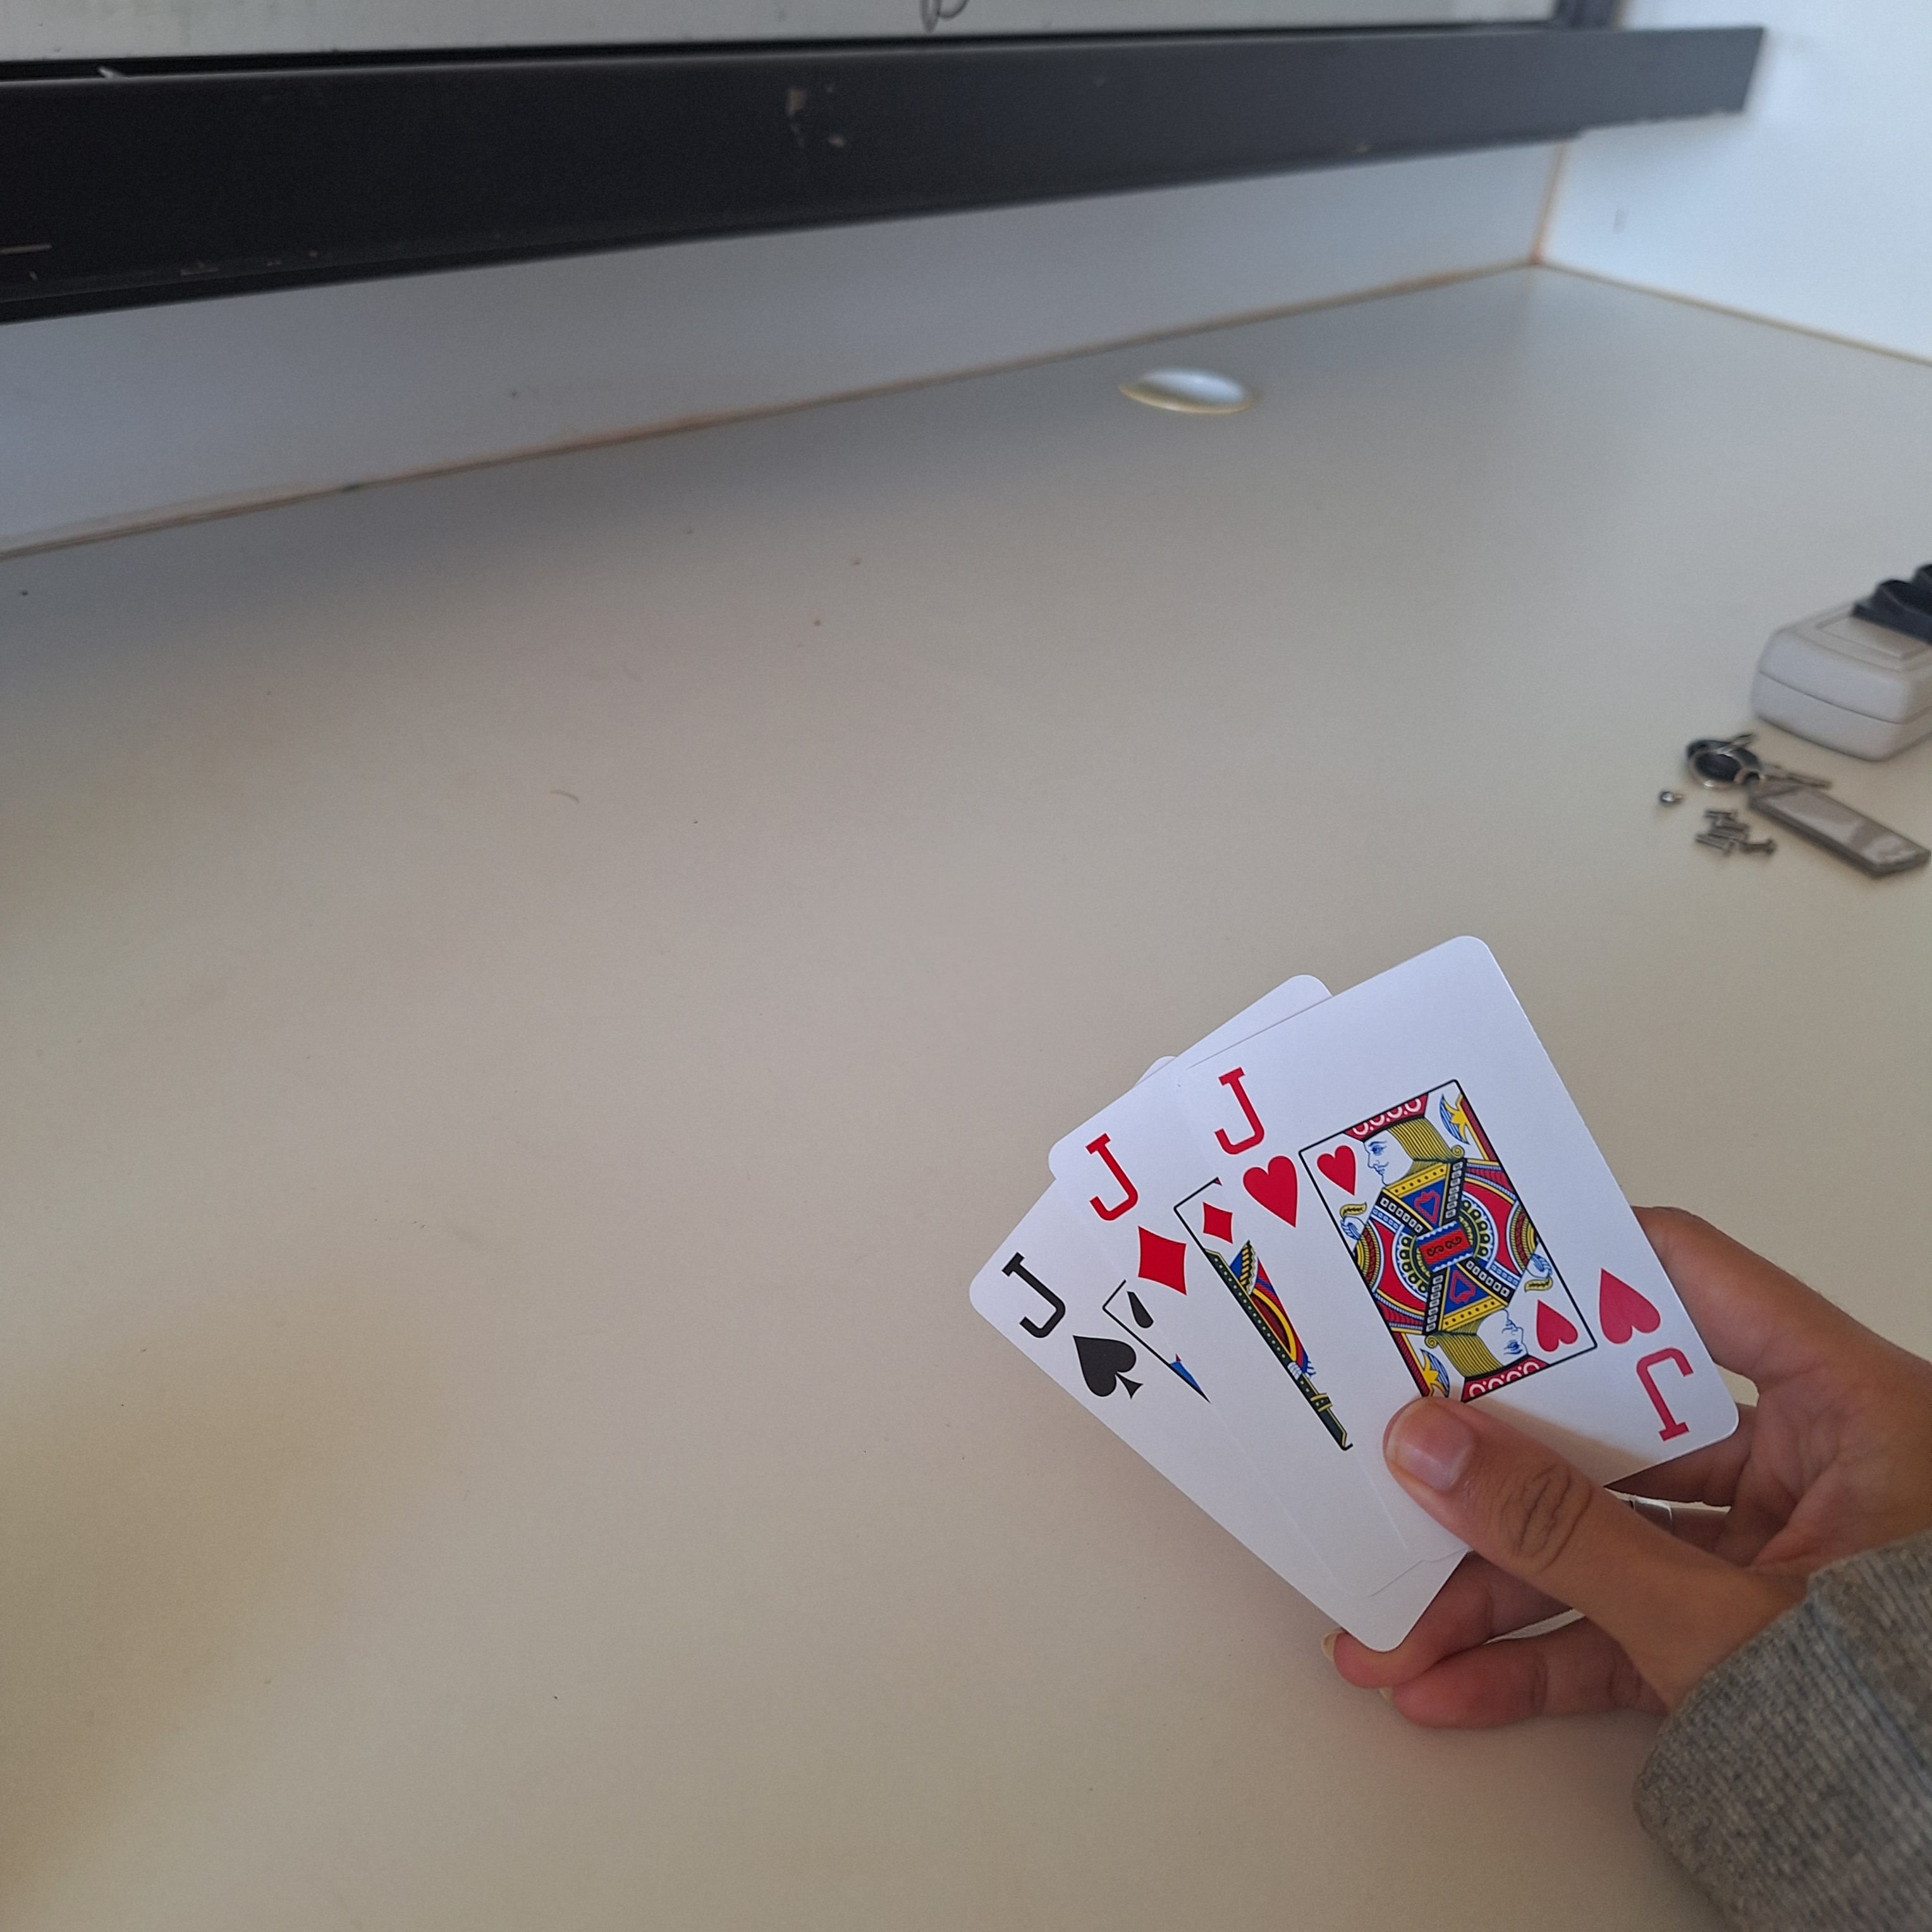JC: (1591, 1261, 1707, 1445), (1207, 1056, 1307, 1233)
JE: (996, 1249, 1146, 1403)
JO: (1072, 1127, 1198, 1300)
